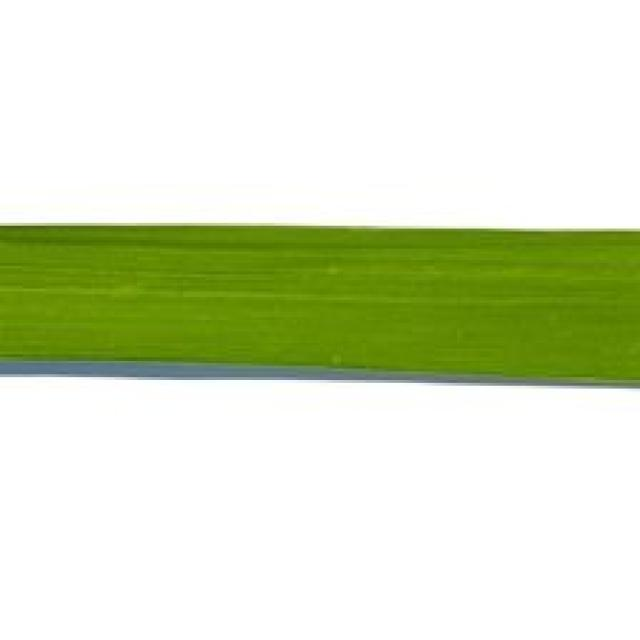Rice___Healthy_Rice_Plant: (1, 226, 637, 390)
